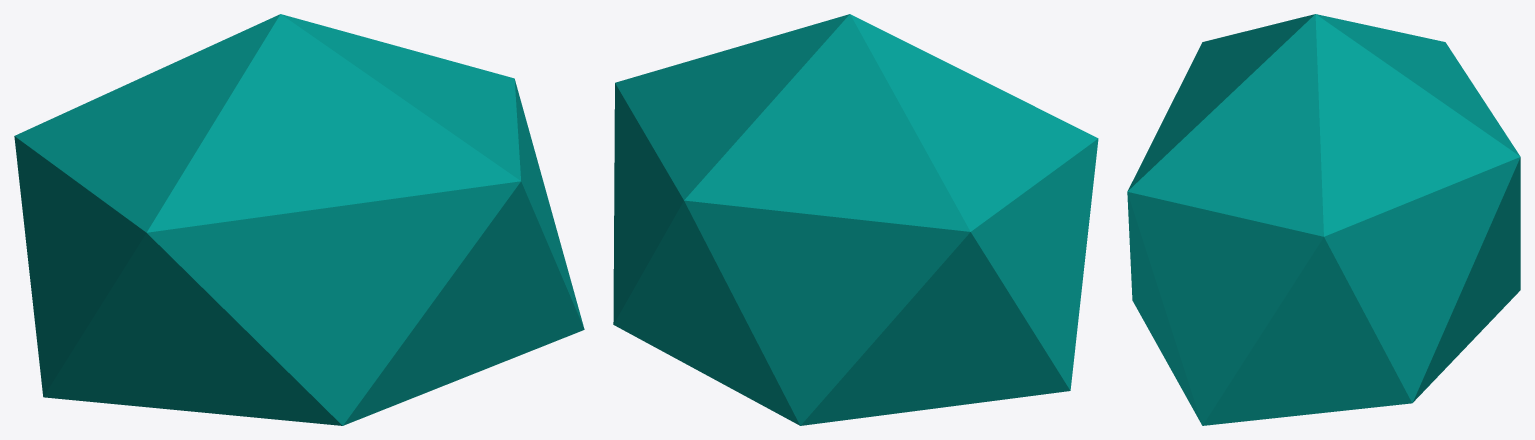
The model's file is Rock_test.FBX.
3 renders of one model, left to right at view 1: azimuth 30°, elevation 25°; view 2: azimuth 150°, elevation 25°; view 3: azimuth 270°, elevation 25°, orthographic. The views are drawn at different scales.
Parts seen in each view (by area): view 1: GeoSphere003; view 2: GeoSphere003; view 3: GeoSphere003.
Boxes of the visible parts, box(x1,y1,x2,y2) form: GeoSphere003: box(14, 14, 584, 425); GeoSphere003: box(613, 14, 1098, 425); GeoSphere003: box(1127, 14, 1520, 425).
Size of the model in its own units: 24.31 by 16.88 by 18.95.
